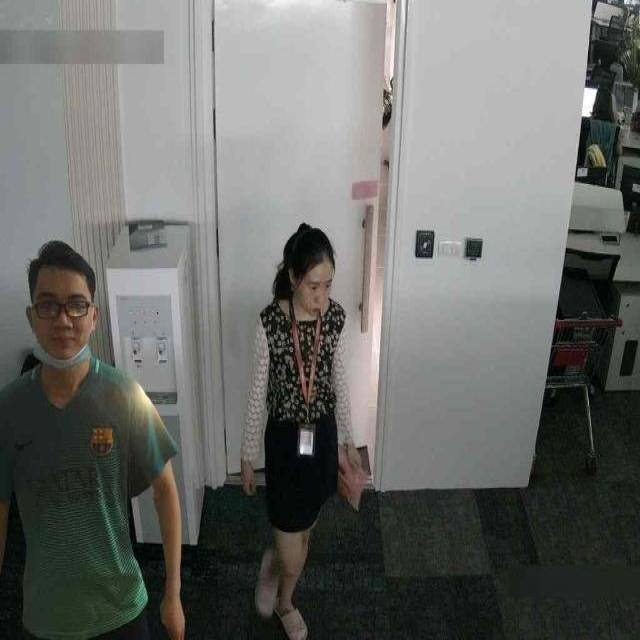bare_hand: (156, 576, 201, 640), (232, 447, 271, 505)
